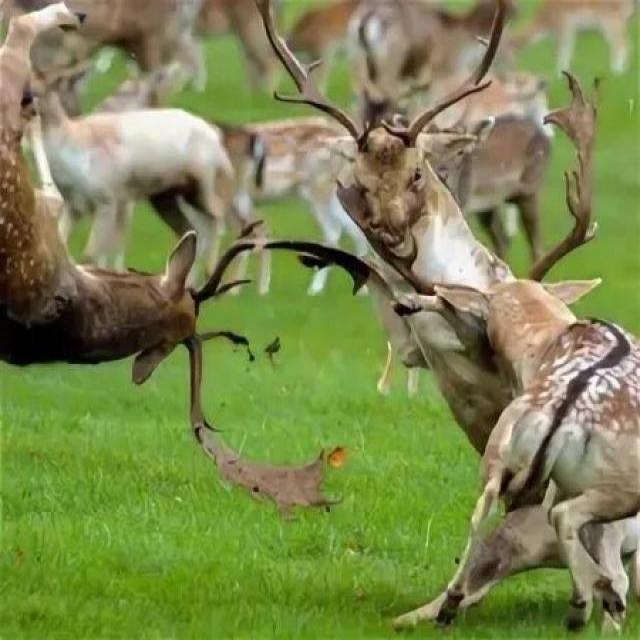deer: (431, 213, 640, 559), (282, 45, 513, 343)
